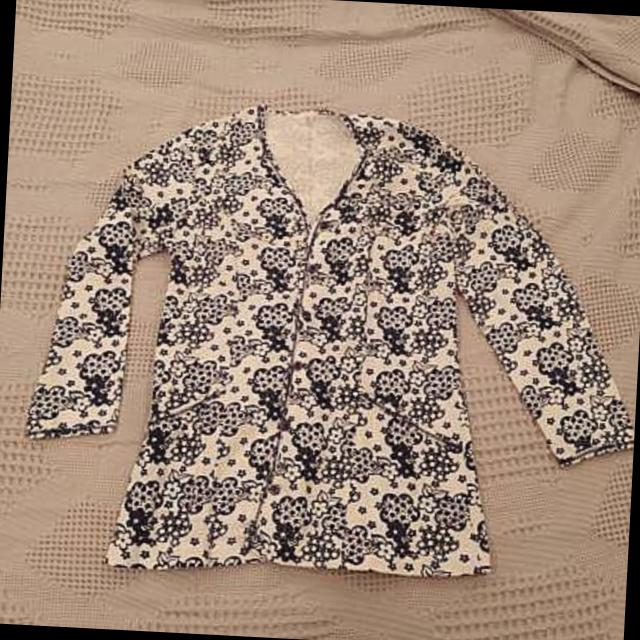SHIRT: (2, 79, 640, 603)
